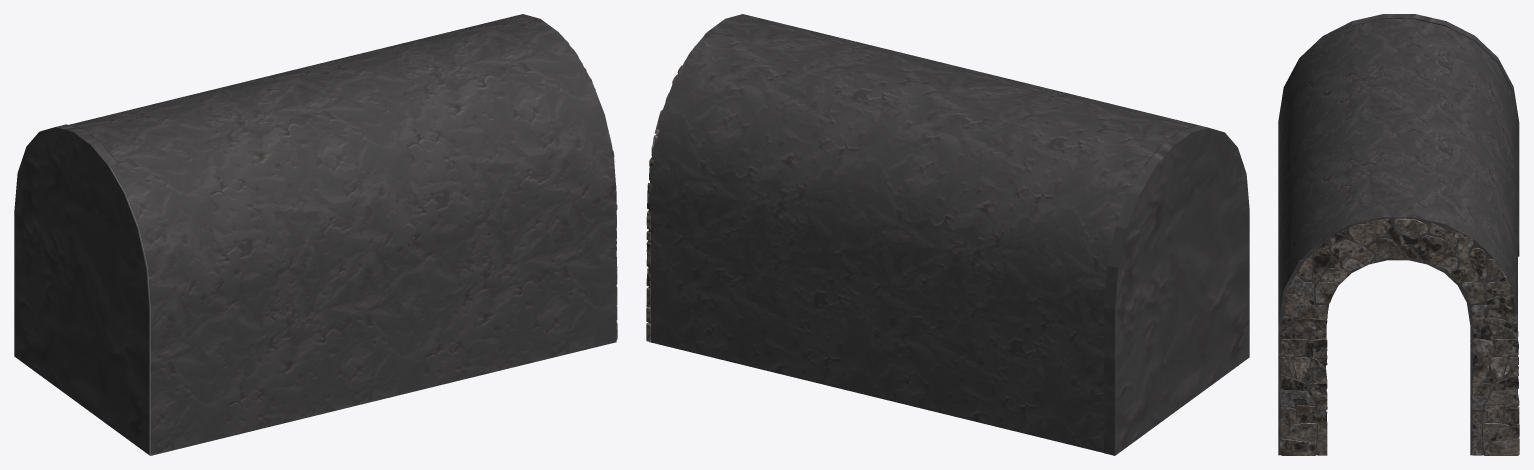
File: Tunel.fbx
3 views of the same model, side by side, from view 1: azimuth 30°, elevation 25°; view 2: azimuth 150°, elevation 25°; view 3: azimuth 270°, elevation 25° (orthographic). The views are drawn at different scales.
Parts seen in each view (by area): view 1: Base, Fondo; view 2: Base, Fondo, Piedras; view 3: Base, Piedras, Fondo.
Part boxes in pixels (left/top/right/bottom): Base: left=69, top=14, right=616, bottom=455; Fondo: left=14, top=124, right=149, bottom=455; Base: left=649, top=14, right=1249, bottom=452; Fondo: left=1104, top=125, right=1249, bottom=455; Piedras: left=646, top=33, right=705, bottom=342; Base: left=1278, top=19, right=1517, bottom=455; Piedras: left=1280, top=218, right=1519, bottom=455; Fondo: left=1329, top=14, right=1519, bottom=256.
Size of the model in its own units: 1006 by 549 by 505.
Materials: 1 (1 with a texture image).
